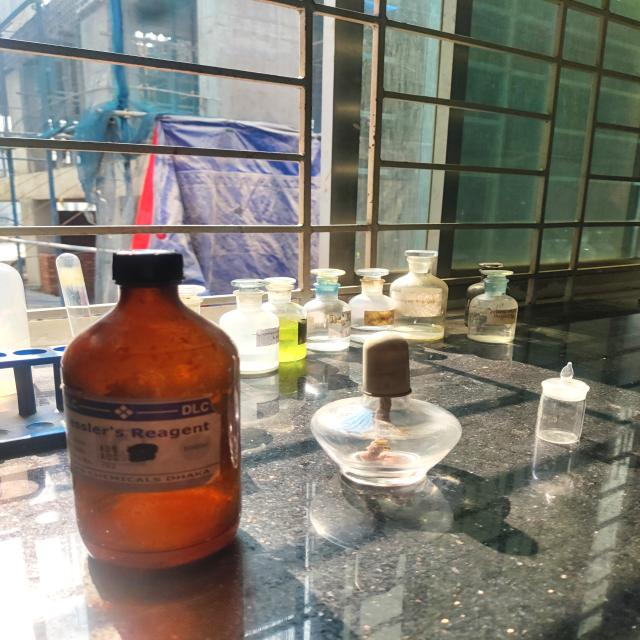Nessler_Reagent_Bottle: (40, 232, 284, 594)
Spirit_Lamp: (296, 331, 486, 506)
Weighing_Bottle: (516, 330, 614, 466)
